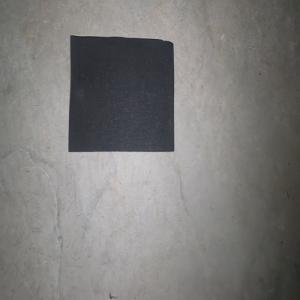PaintChip: (68, 34, 174, 152)
